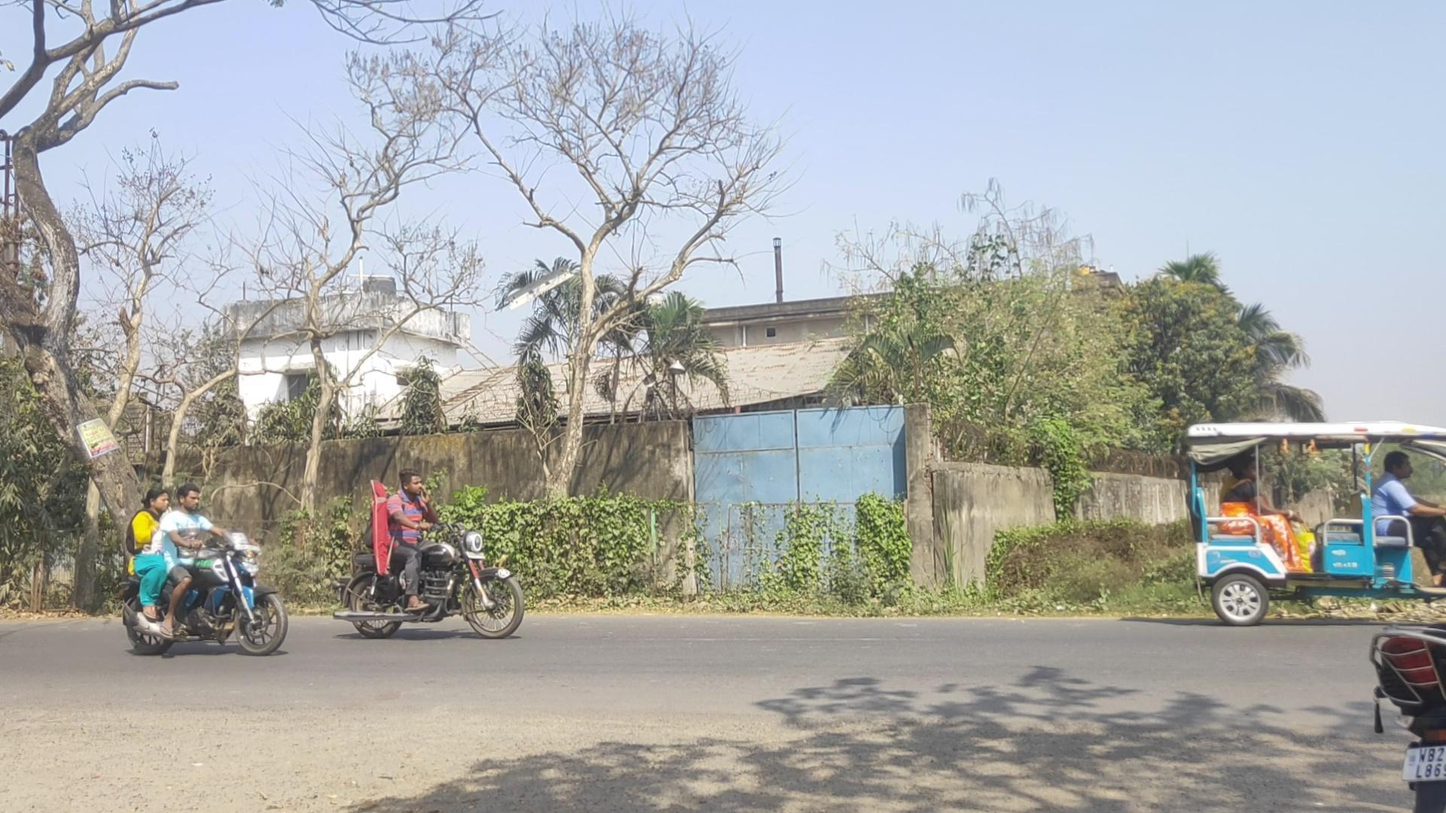Auto: (1184, 421, 1446, 627)
bike: (332, 468, 525, 639), (115, 483, 288, 656)
